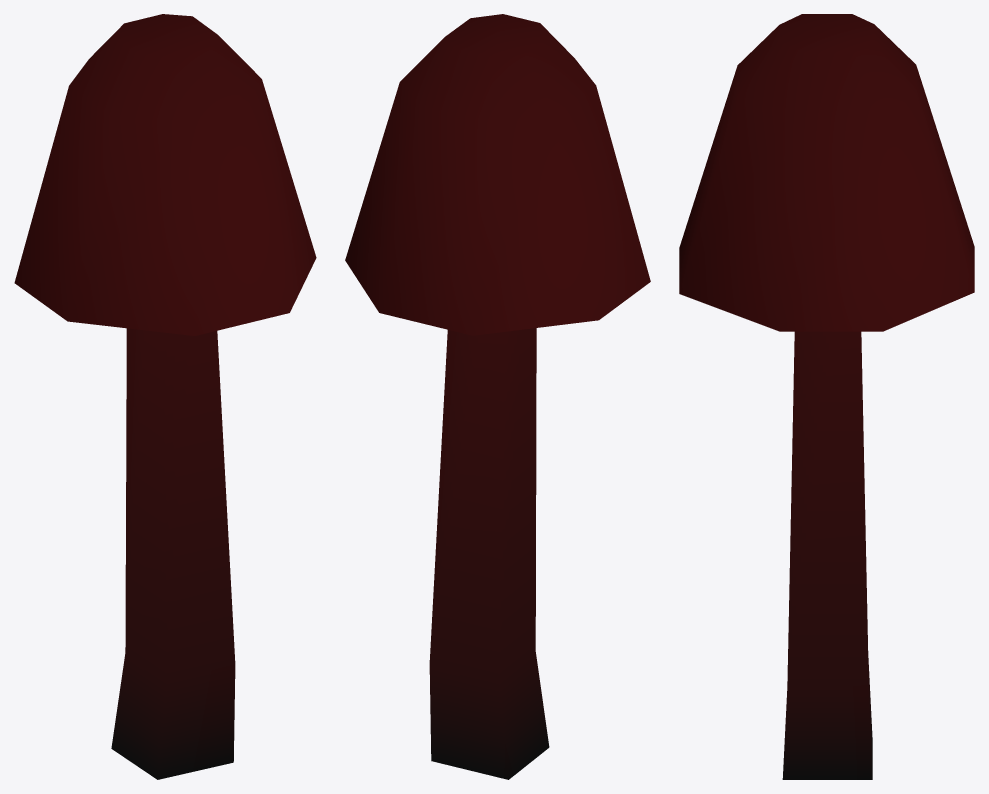
Rendered from SM_Mushroom_Small.fbx.
3 views of the same model, side by side, from view 1: azimuth 30°, elevation 25°; view 2: azimuth 150°, elevation 25°; view 3: azimuth 270°, elevation 25° (orthographic).
Parts seen in each view (by area): view 1: Mushroom Small; view 2: Mushroom Small; view 3: Mushroom Small.
Boxes of the visible parts, left/top/right/bottom form: Mushroom Small: left=14, top=14, right=316, bottom=779; Mushroom Small: left=345, top=14, right=650, bottom=779; Mushroom Small: left=679, top=14, right=974, bottom=779.
Size of the model in its own units: 0.0803 by 0.2193 by 0.081.
